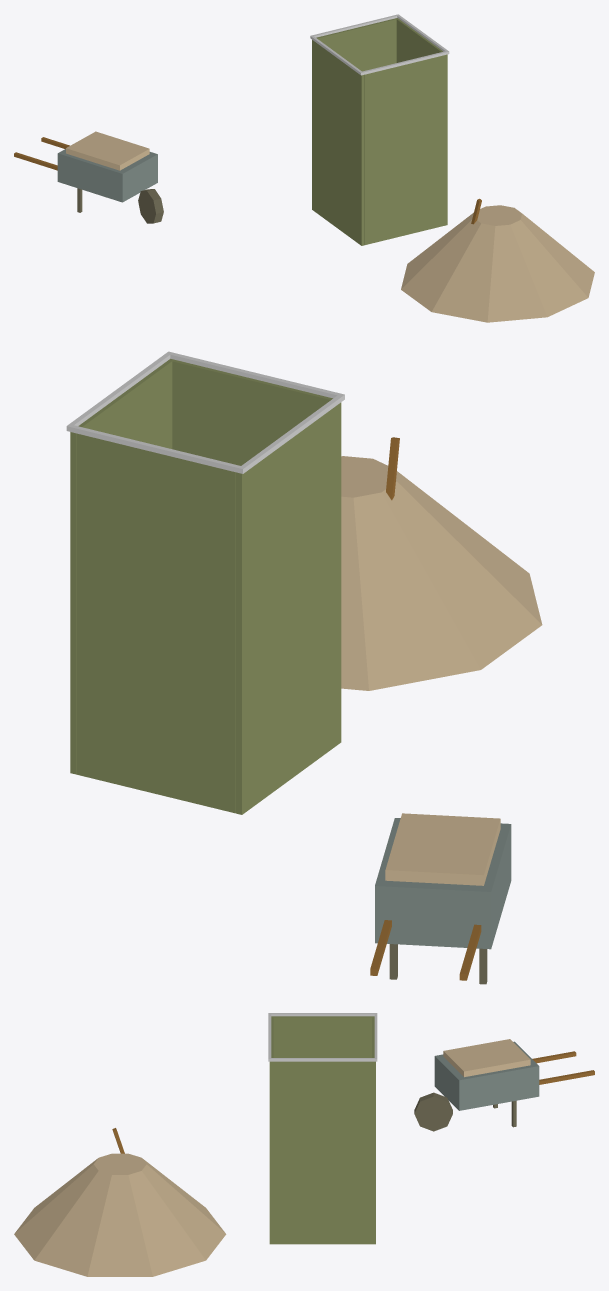
Rendered from SM_ObraHescoAbierto_v1_10m_LOD0.fbx.
3 views of the same model, one above another, from view 1: azimuth 30°, elevation 25°; view 2: azimuth 150°, elevation 25°; view 3: azimuth 270°, elevation 25° (orthographic). The views are drawn at different scales.
Visible parts, largest first — view 1: SM_obra_curso_v23_LOD0; view 2: SM_obra_curso_v23_LOD0; view 3: SM_obra_curso_v23_LOD0.
Boxes of the visible parts, x1=… form: SM_obra_curso_v23_LOD0: x1=14, y1=14, x2=594, y2=322; SM_obra_curso_v23_LOD0: x1=66, y1=351, x2=542, y2=984; SM_obra_curso_v23_LOD0: x1=14, y1=1013, x2=594, y2=1276.
Bounding box in the file's own units: 4.52 × 2.14 × 6.02.
